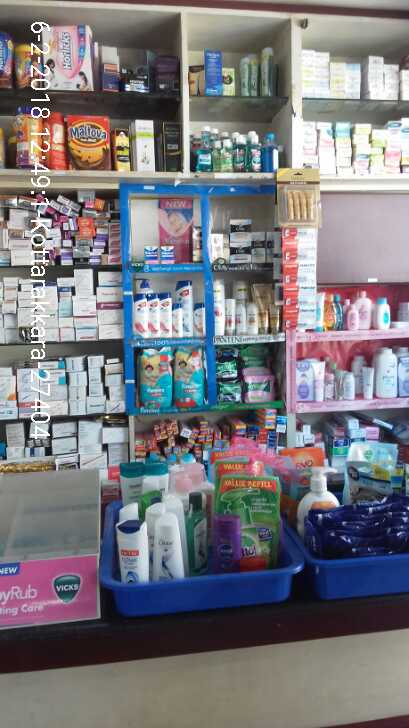vicks: (141, 244, 175, 263)
